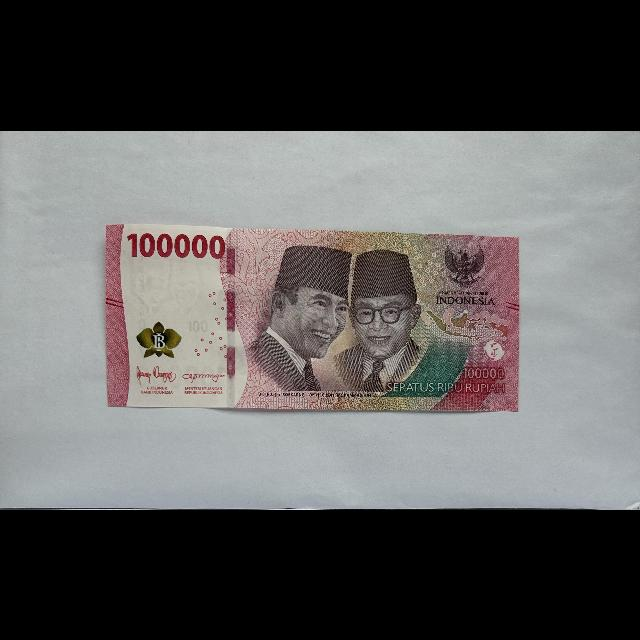Asli-100k: (104, 221, 521, 411)
Tinta-Asli-100k: (136, 320, 183, 359)
